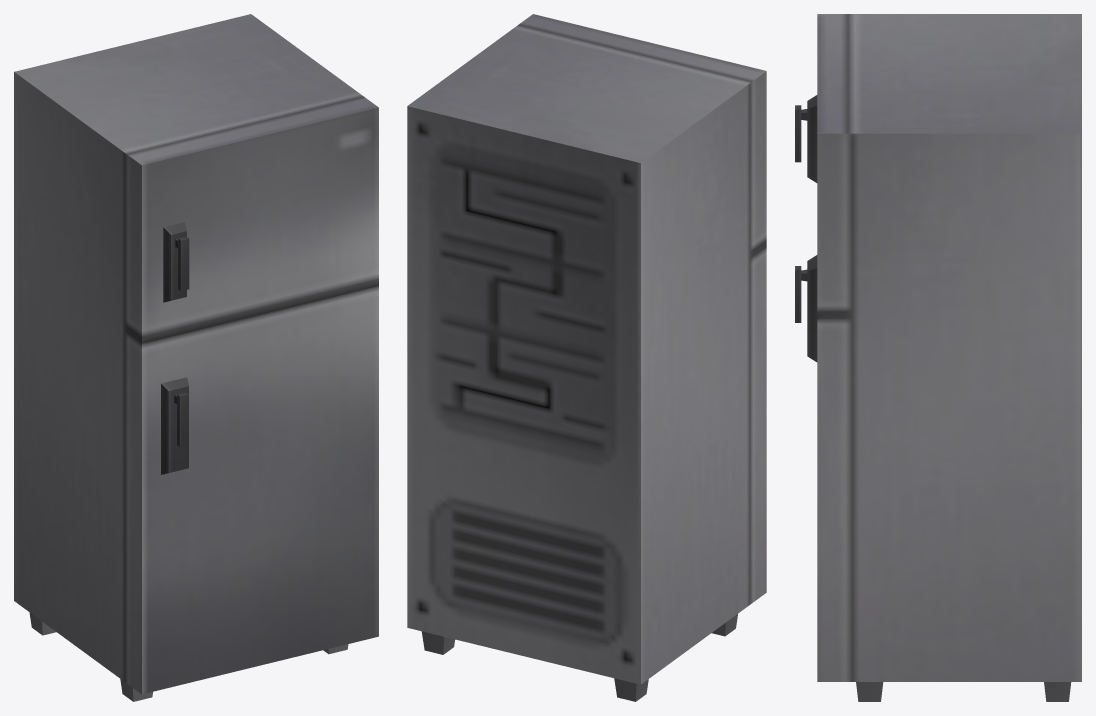
Rendered from Fridge.fbx.
3 views of the same model, side by side, from view 1: azimuth 30°, elevation 25°; view 2: azimuth 150°, elevation 25°; view 3: azimuth 270°, elevation 25° (orthographic). The views are drawn at different scales.
Parts seen in each view (by area): view 1: polySurface1544; view 2: polySurface1544; view 3: polySurface1544.
Boxes of the visible parts, x1,y1,x2,y2 form: polySurface1544: [14, 14, 378, 701]; polySurface1544: [407, 14, 766, 701]; polySurface1544: [795, 14, 1081, 701].
Size of the model in its own units: 1.5 by 3.35 by 1.52.
